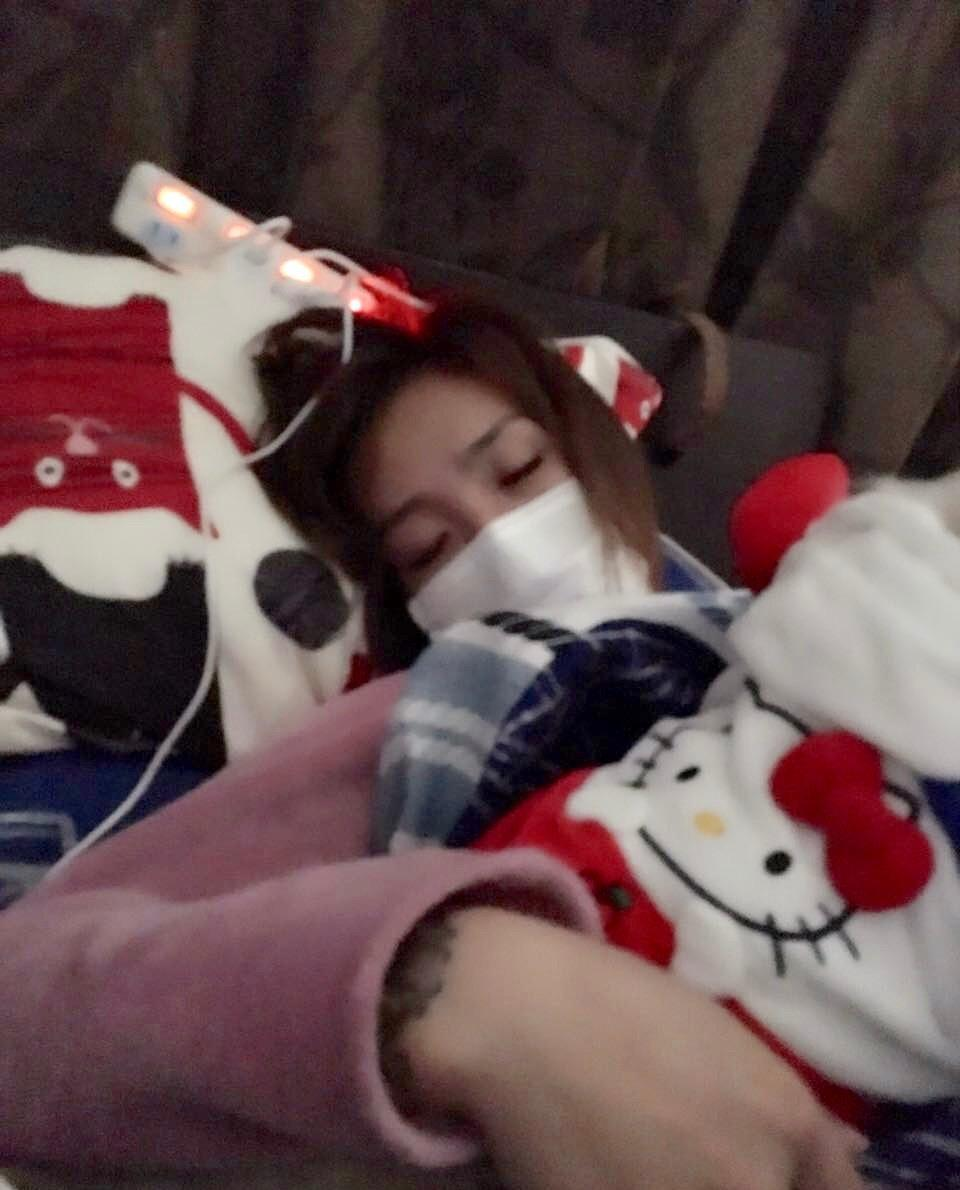OK: (383, 420, 639, 676)
